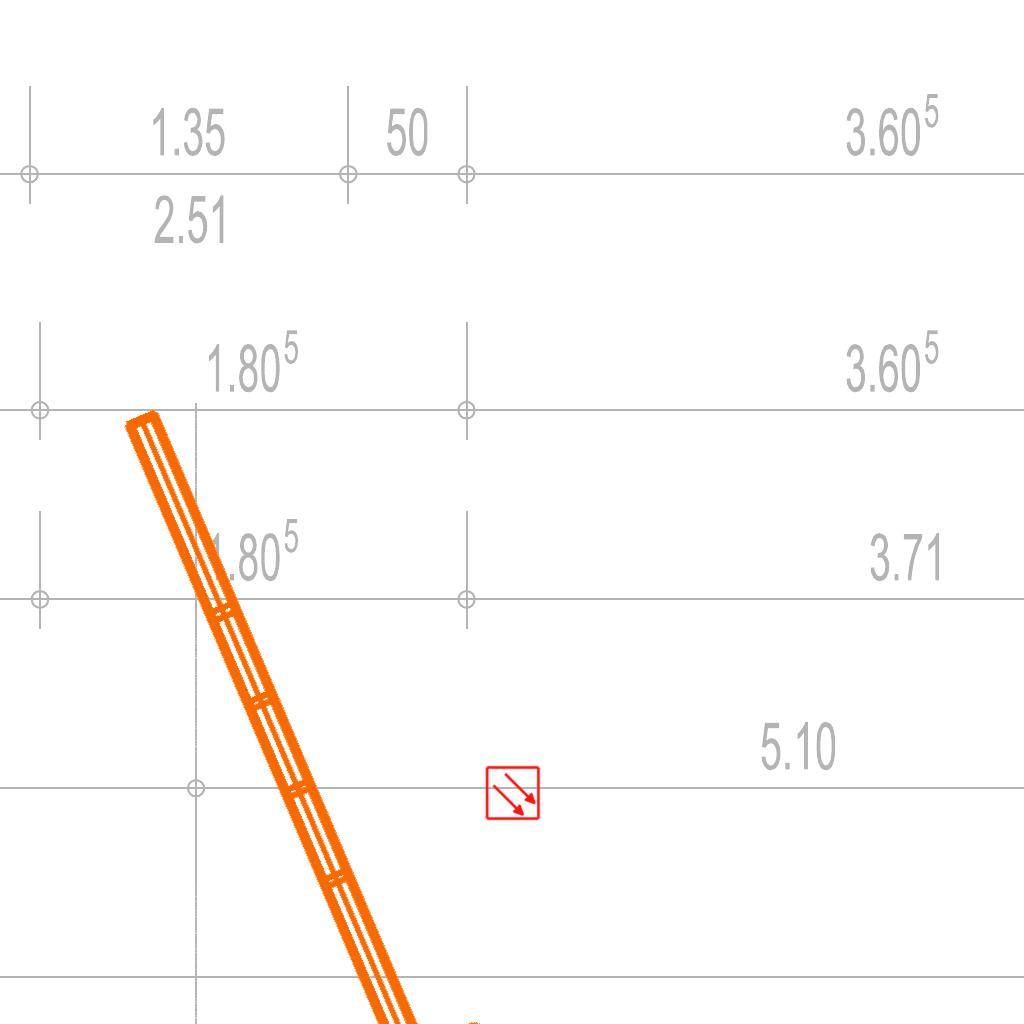Ambulanz_Pendelleuchte_LED: (107, 373, 513, 1024)
RMO_Rauchmelder_optischer: (485, 765, 541, 821)
